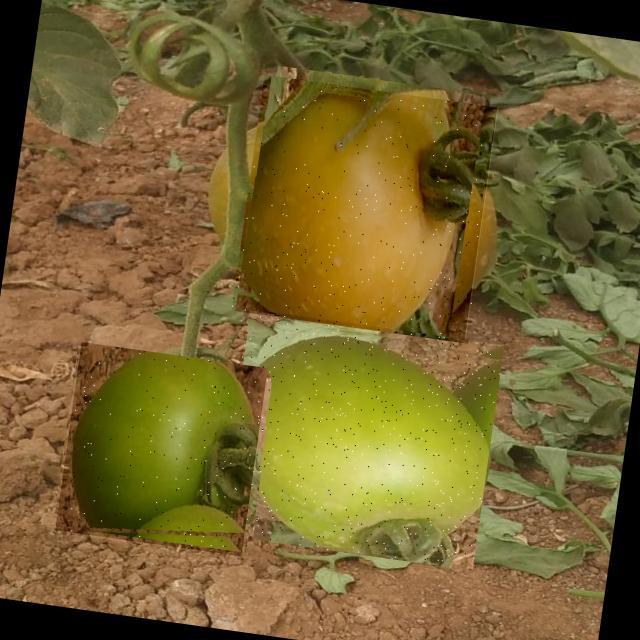Unripe Tomato: (217, 309, 504, 571), (232, 75, 501, 344), (55, 342, 268, 556)
